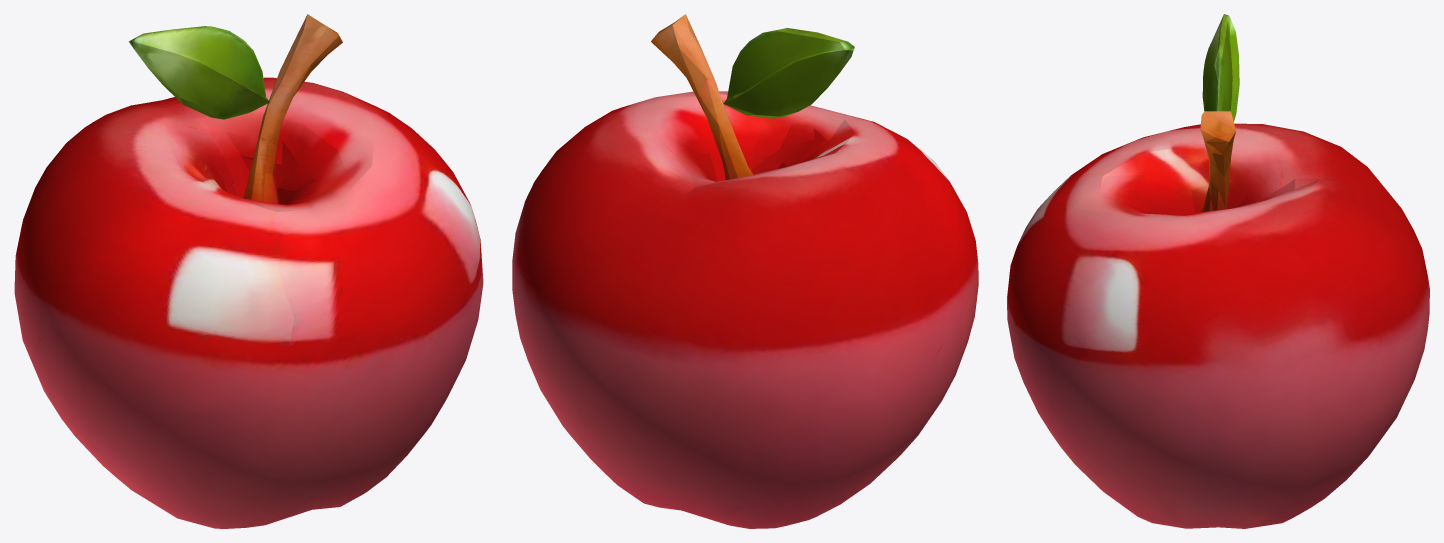
The model's file is apple.glb.
3 views of the same model, side by side, from view 1: azimuth 30°, elevation 25°; view 2: azimuth 150°, elevation 25°; view 3: azimuth 270°, elevation 25° (orthographic). The views are drawn at different scales.
Visible parts, largest first — view 1: model; view 2: model; view 3: model.
Boxes of the visible parts, x1,y1,x2,y2 form: model: [14, 14, 483, 528]; model: [512, 14, 978, 528]; model: [1007, 14, 1429, 528].
Bounding box in the file's own units: 1.69 × 1.9 × 1.67.
1 material, 1 textured.
